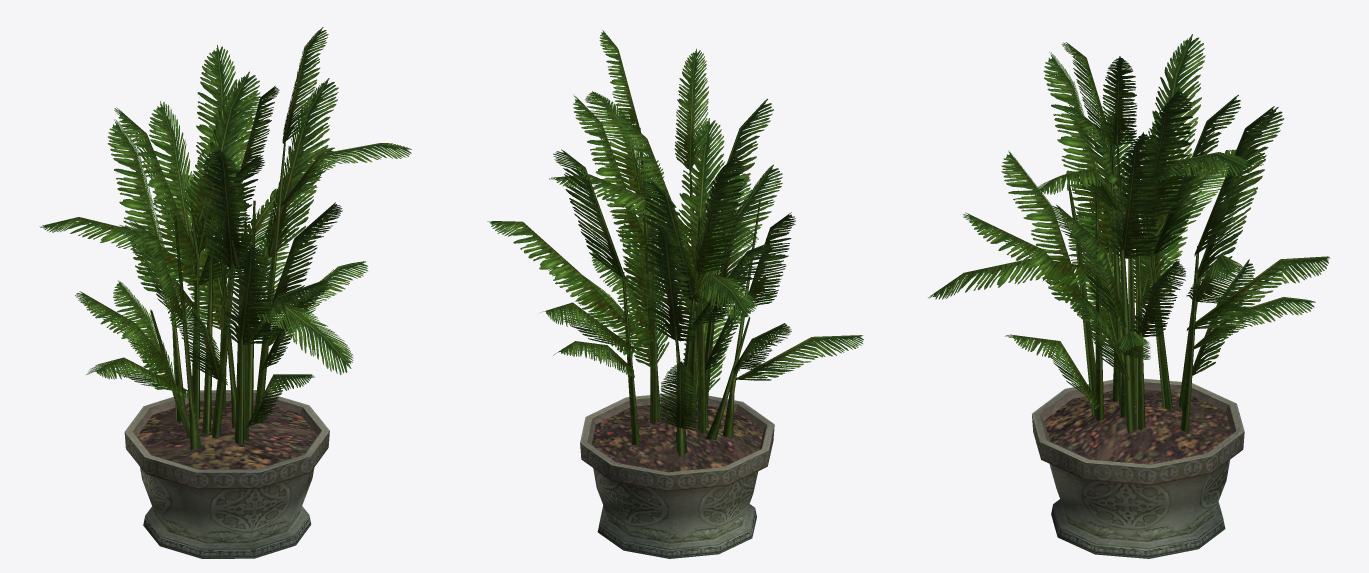
File: penjing_41.FBX
3 renders of one model, left to right at view 1: azimuth 30°, elevation 25°; view 2: azimuth 150°, elevation 25°; view 3: azimuth 270°, elevation 25°, orthographic. The views are drawn at different scales.
Visible parts, largest first — view 1: penjing_41; view 2: penjing_41; view 3: penjing_41.
Boxes of the visible parts, box(x1,y1,x2,y2) form: penjing_41: box(39, 27, 411, 558); penjing_41: box(487, 30, 863, 558); penjing_41: box(928, 34, 1330, 558).
Size of what is drawn, in the model's own units: 192 by 253 by 197.
